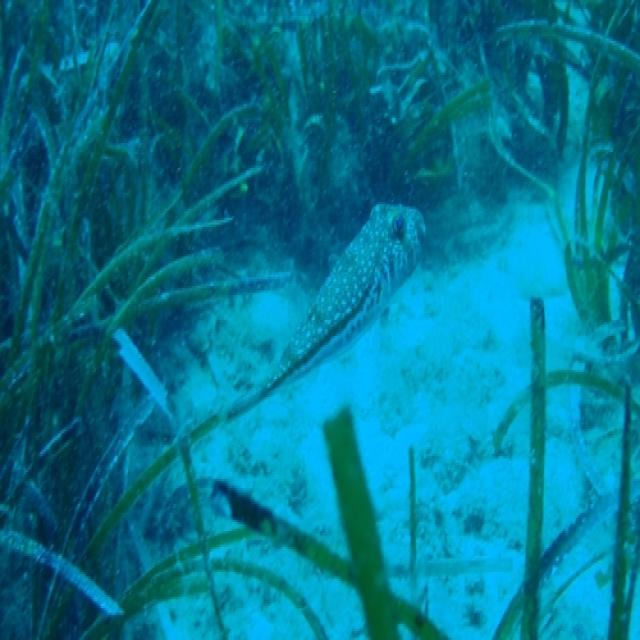Balik: (226, 205, 426, 419)
